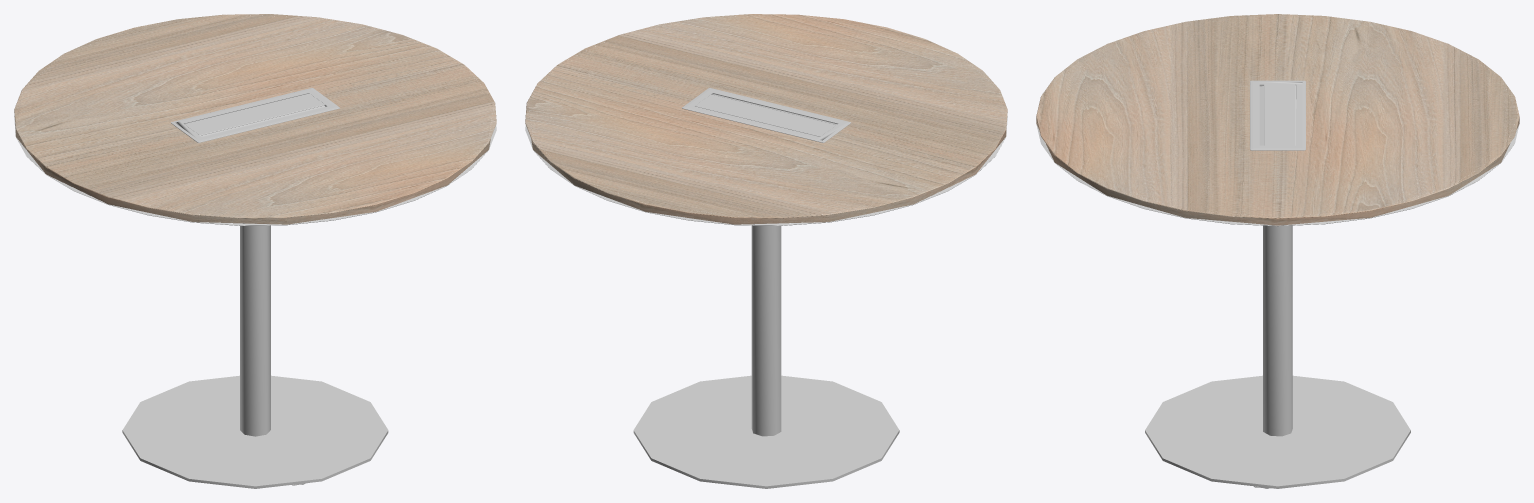
3 renders of one model, left to right at view 1: azimuth 30°, elevation 25°; view 2: azimuth 150°, elevation 25°; view 3: azimuth 270°, elevation 25°, orthographic.
Parts seen in each view (by area): view 1: 512da057-7a2e-474f-8b42-26f523d78e82, d0a4dc3c-3edf-43ad-ae34-5bfe0eb95981, 6e70ccff-cc53-4e95-a0fa-9b83dd88936c_0, e52f6ede-8717-47cc-8098-d0dc3786d9b2; view 2: 512da057-7a2e-474f-8b42-26f523d78e82, d0a4dc3c-3edf-43ad-ae34-5bfe0eb95981, 6e70ccff-cc53-4e95-a0fa-9b83dd88936c_0, e52f6ede-8717-47cc-8098-d0dc3786d9b2; view 3: 512da057-7a2e-474f-8b42-26f523d78e82, d0a4dc3c-3edf-43ad-ae34-5bfe0eb95981, 6e70ccff-cc53-4e95-a0fa-9b83dd88936c_0, e52f6ede-8717-47cc-8098-d0dc3786d9b2.
Part boxes in pixels (x1,y1,x2,y2): 512da057-7a2e-474f-8b42-26f523d78e82: (16, 14, 494, 216); d0a4dc3c-3edf-43ad-ae34-5bfe0eb95981: (14, 105, 496, 488); 6e70ccff-cc53-4e95-a0fa-9b83dd88936c_0: (14, 14, 496, 224); e52f6ede-8717-47cc-8098-d0dc3786d9b2: (171, 88, 339, 142); 512da057-7a2e-474f-8b42-26f523d78e82: (527, 14, 1005, 216); d0a4dc3c-3edf-43ad-ae34-5bfe0eb95981: (525, 94, 1007, 488); 6e70ccff-cc53-4e95-a0fa-9b83dd88936c_0: (525, 14, 1007, 224); e52f6ede-8717-47cc-8098-d0dc3786d9b2: (682, 88, 850, 142); 512da057-7a2e-474f-8b42-26f523d78e82: (1037, 14, 1518, 217); d0a4dc3c-3edf-43ad-ae34-5bfe0eb95981: (1036, 86, 1519, 488); 6e70ccff-cc53-4e95-a0fa-9b83dd88936c_0: (1036, 14, 1519, 225); e52f6ede-8717-47cc-8098-d0dc3786d9b2: (1250, 80, 1305, 150).
Bounding box in the file's own units: 1 × 0.7416 × 1.
Materials: 3 (2 with a texture image).
